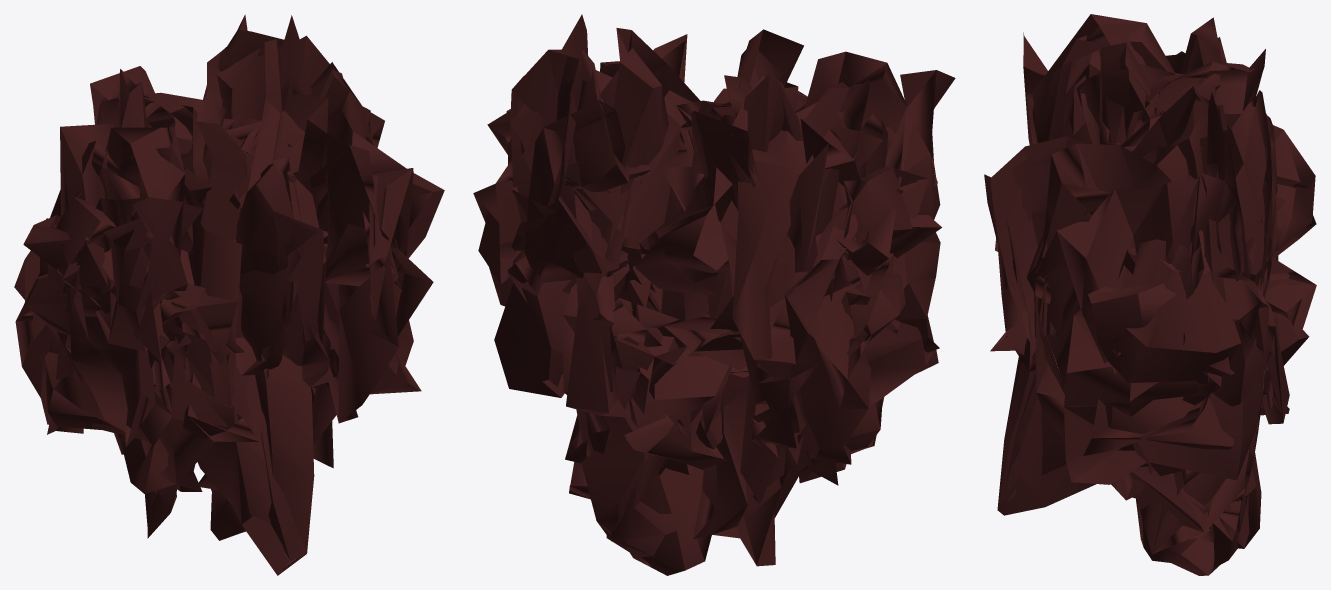
Rendered from 100 heart.obj.
3 views of the same model, side by side, from view 1: azimuth 30°, elevation 25°; view 2: azimuth 150°, elevation 25°; view 3: azimuth 270°, elevation 25° (orthographic). The views are drawn at different scales.
Parts seen in each view (by area): view 1: 000_Heart; view 2: 000_Heart; view 3: 000_Heart.
Boxes of the visible parts, <box> form: 000_Heart: <box>14,14,444,575</box>; 000_Heart: <box>473,14,955,575</box>; 000_Heart: <box>984,14,1316,575</box>.
Size of the model in its own units: 313 by 399 by 231.
